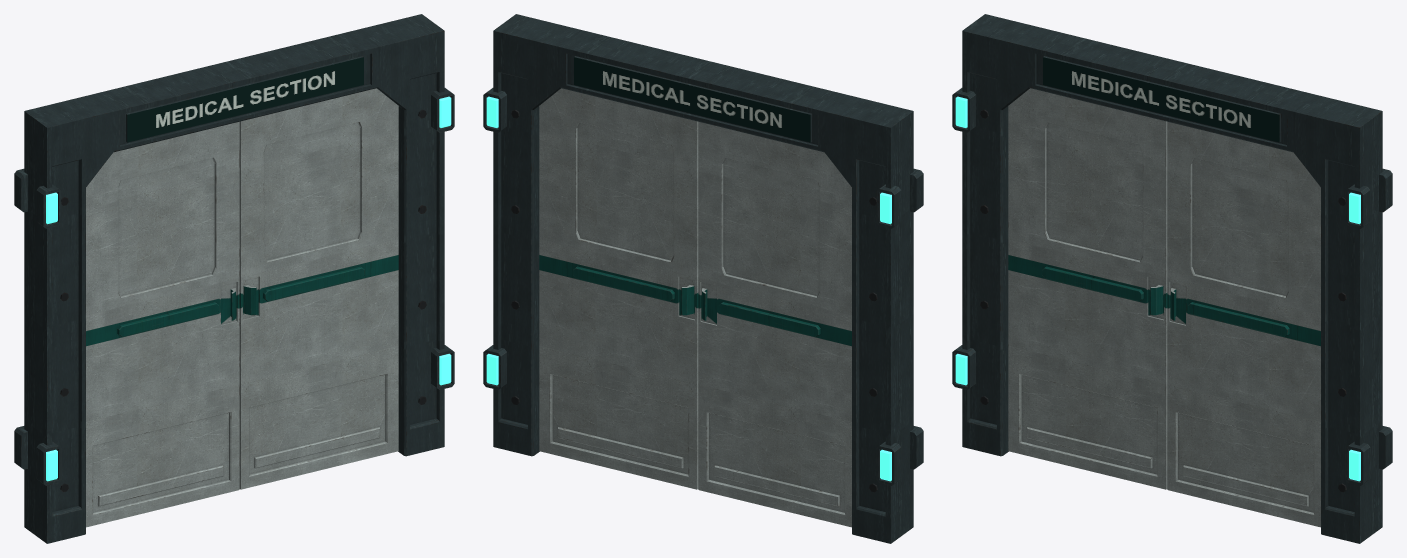
Rendered from medical_hermetic_door.glb.
The picture shows the model from 3 angles, left to right: view 1: azimuth 30°, elevation 25°; view 2: azimuth 150°, elevation 25°; view 3: azimuth 330°, elevation 25°; orthographic projection.
Visible parts, largest first — view 1: RightLeaf, Frame, LeftLeaf, MedicalSign, StatusHousings_Upper, StatusHousings_Lower, StatusLenses_Lower, StatusLenses_Upper; view 2: RightLeaf, Frame, LeftLeaf, MedicalSign, StatusHousings_Upper, StatusHousings_Lower, StatusLenses_Lower, StatusLenses_Upper; view 3: LeftLeaf, Frame, RightLeaf, MedicalSign, StatusHousings_Upper, StatusHousings_Lower, StatusLenses_Lower, StatusLenses_Upper.
Boxes of the visible parts, x1=… form: RightLeaf: x1=239, y1=88, x2=398, y2=489; Frame: x1=24, y1=14, x2=444, y2=543; LeftLeaf: x1=86, y1=121, x2=239, y2=527; MedicalSign: x1=126, y1=56, x2=363, y2=142; StatusHousings_Upper: x1=14, y1=88, x2=454, y2=228; StatusHousings_Lower: x1=14, y1=345, x2=454, y2=485; StatusLenses_Lower: x1=46, y1=353, x2=451, y2=481; StatusLenses_Upper: x1=46, y1=96, x2=451, y2=224; RightLeaf: x1=539, y1=88, x2=698, y2=489; Frame: x1=493, y1=14, x2=913, y2=543; LeftLeaf: x1=698, y1=121, x2=851, y2=527; MedicalSign: x1=574, y1=56, x2=811, y2=142; StatusHousings_Upper: x1=483, y1=88, x2=923, y2=228; StatusHousings_Lower: x1=483, y1=345, x2=923, y2=485; StatusLenses_Lower: x1=486, y1=353, x2=891, y2=481; StatusLenses_Upper: x1=486, y1=96, x2=891, y2=224; LeftLeaf: x1=1008, y1=88, x2=1167, y2=489; Frame: x1=962, y1=14, x2=1382, y2=543; RightLeaf: x1=1167, y1=121, x2=1320, y2=527; MedicalSign: x1=1043, y1=56, x2=1280, y2=142; StatusHousings_Upper: x1=952, y1=88, x2=1392, y2=228; StatusHousings_Lower: x1=952, y1=345, x2=1392, y2=485; StatusLenses_Lower: x1=955, y1=353, x2=1360, y2=481; StatusLenses_Upper: x1=955, y1=96, x2=1360, y2=224.
Bounding box in the file's own units: 6.2 × 6 × 0.7856.
Materials: 4 (3 with a texture image).
